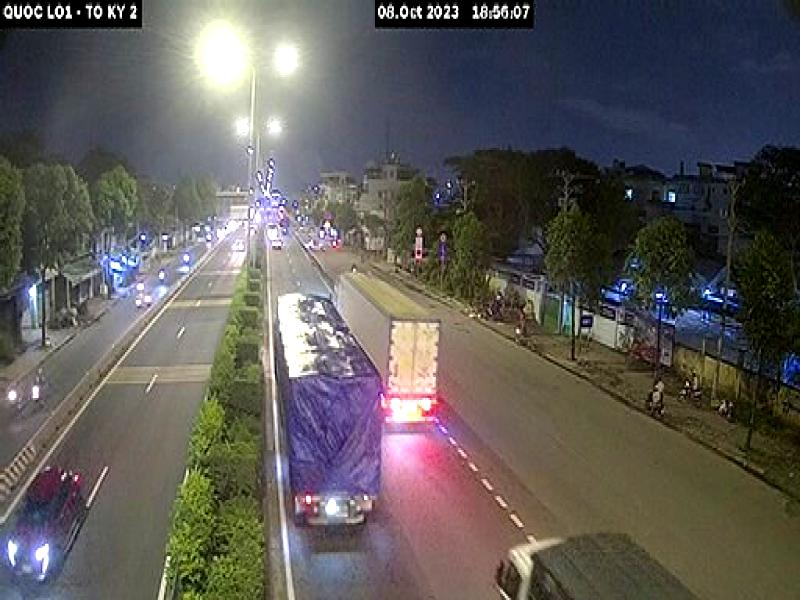truck: (275, 292, 382, 528), (330, 269, 440, 431), (495, 531, 702, 600)
